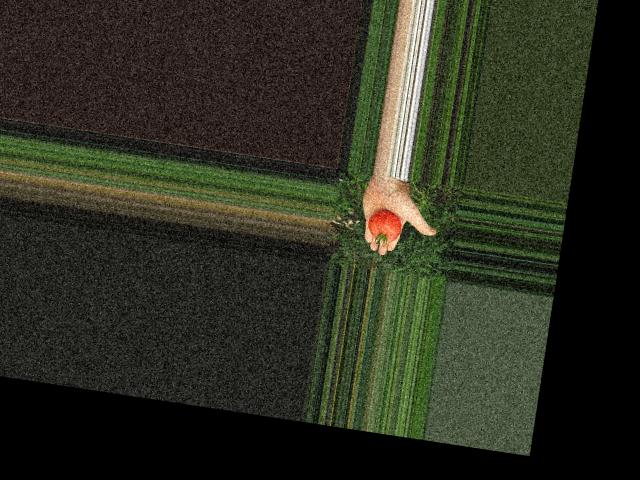tomato: (365, 207, 403, 242)
